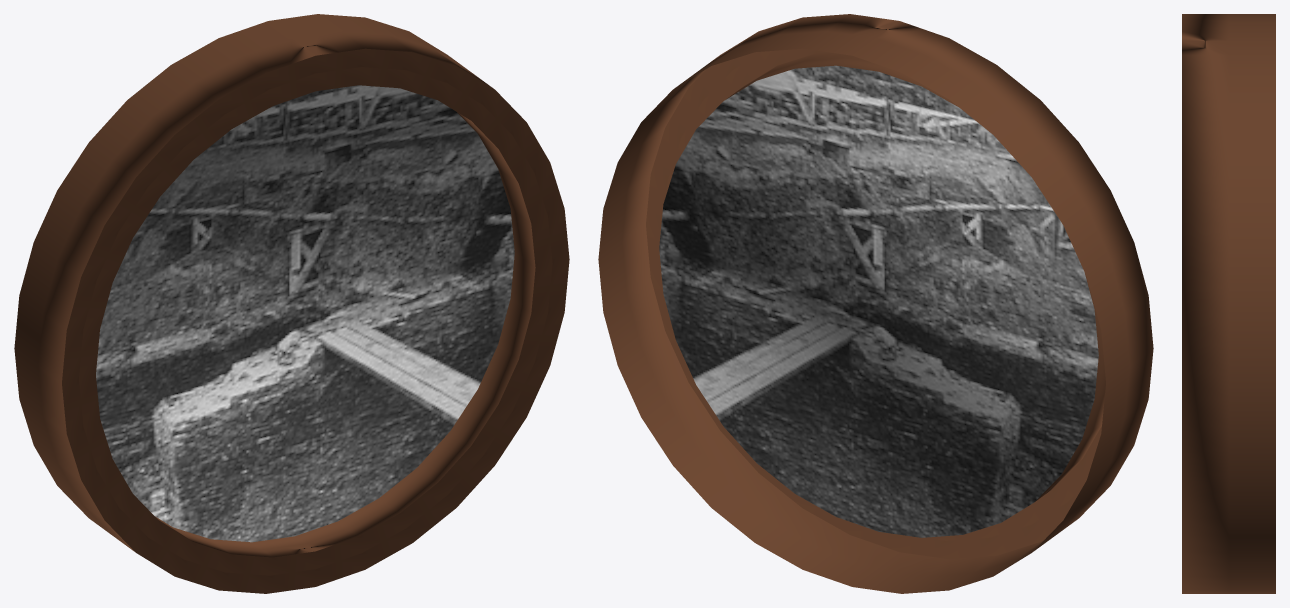
File: piece3.glb
3 views of the same model, side by side, from view 1: azimuth 30°, elevation 25°; view 2: azimuth 150°, elevation 25°; view 3: azimuth 270°, elevation 25° (orthographic).
Visible parts, largest first — view 1: Cylinder.005; view 2: Cylinder.005; view 3: Cylinder.005.
Boxes of the visible parts, bbox=[...] form: Cylinder.005: bbox=[14, 14, 569, 593]; Cylinder.005: bbox=[598, 14, 1153, 593]; Cylinder.005: bbox=[1182, 14, 1275, 593].
Size of the model in its own units: 0.2655 by 0.2655 by 0.043.
2 materials, 1 textured.
